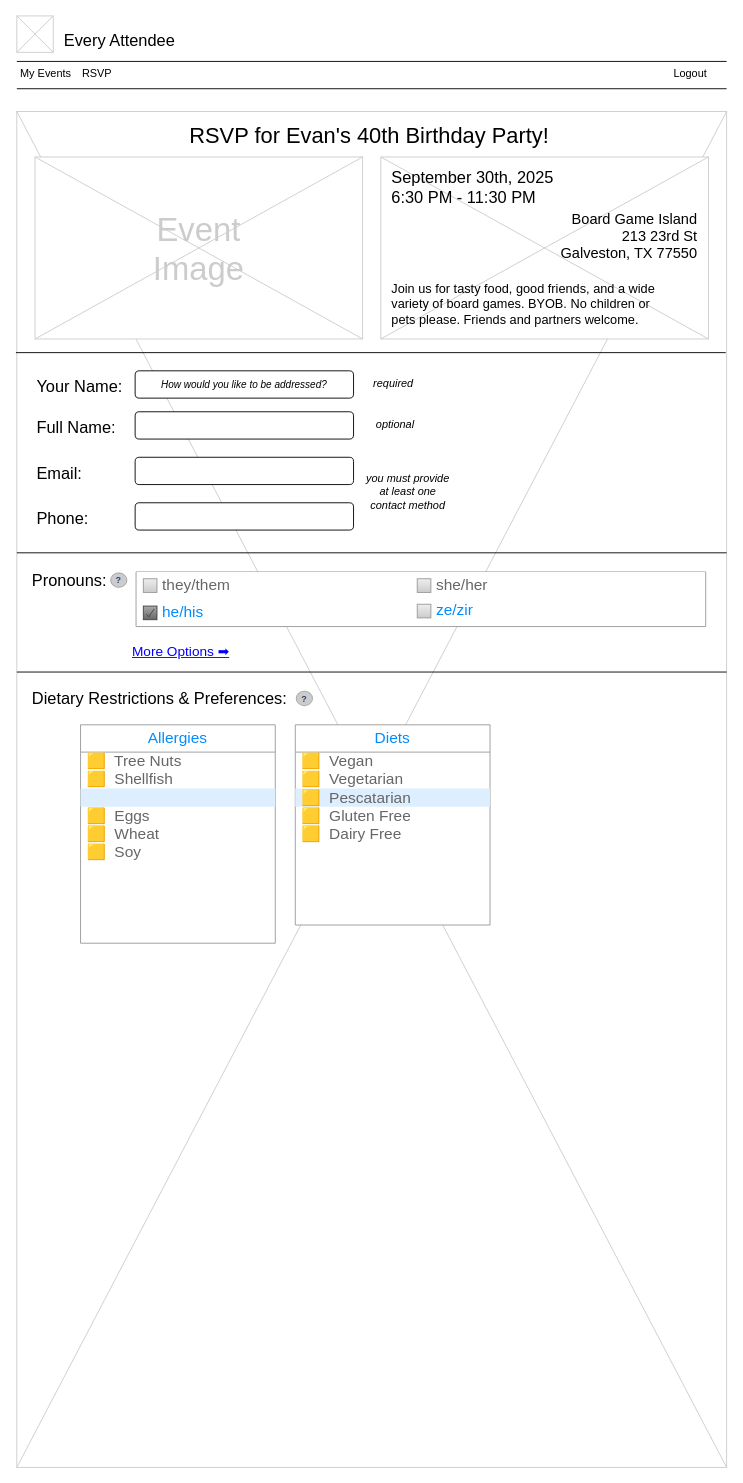
Some shapes in this 743 by 1483 pixel diagram are drawn without their labels. Each missing label, with the centre of its shape:
EvA: (x=34, y=33)
🟨 Peanuts: (x=177, y=797)
